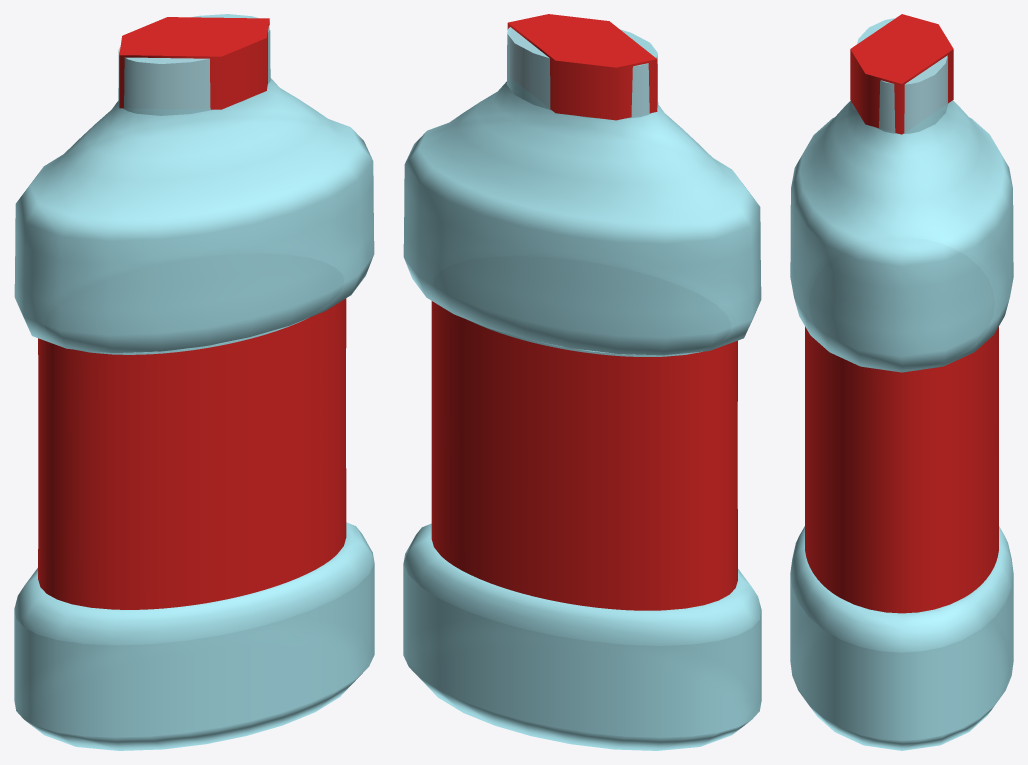
The model's file is colluttorio.fbx.
3 renders of one model, left to right at view 1: azimuth 30°, elevation 25°; view 2: azimuth 150°, elevation 25°; view 3: azimuth 270°, elevation 25°, orthographic. The views are drawn at different scales.
Parts seen in each view (by area): view 1: Oggetto_2, Oggetto_1, Oggetto_3; view 2: Oggetto_2, Oggetto_1, Oggetto_3; view 3: Oggetto_2, Oggetto_1, Oggetto_3.
Part boxes in pixels (left/top/right/bottom): Oggetto_2: left=14, top=14, right=374, bottom=750; Oggetto_1: left=38, top=298, right=346, bottom=609; Oggetto_3: left=119, top=17, right=269, bottom=109; Oggetto_2: left=403, top=27, right=761, bottom=750; Oggetto_1: left=431, top=301, right=737, bottom=610; Oggetto_3: left=507, top=14, right=657, bottom=120; Oggetto_2: left=790, top=18, right=1013, bottom=750; Oggetto_1: left=805, top=326, right=998, bottom=613; Oggetto_3: left=850, top=14, right=953, bottom=134.
Size of the model in its own units: 15.11 by 8.97 by 27.98.
